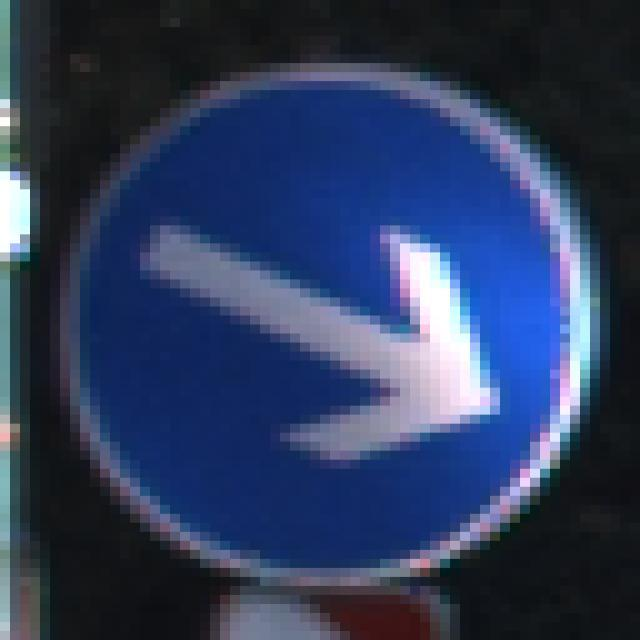compulsary keep right: (59, 63, 590, 575)
